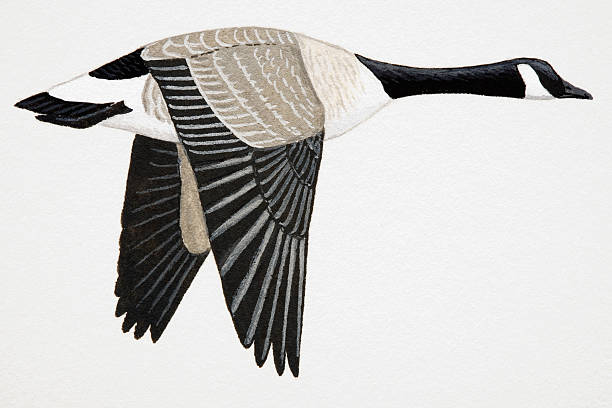goose: (10, 25, 594, 381)
